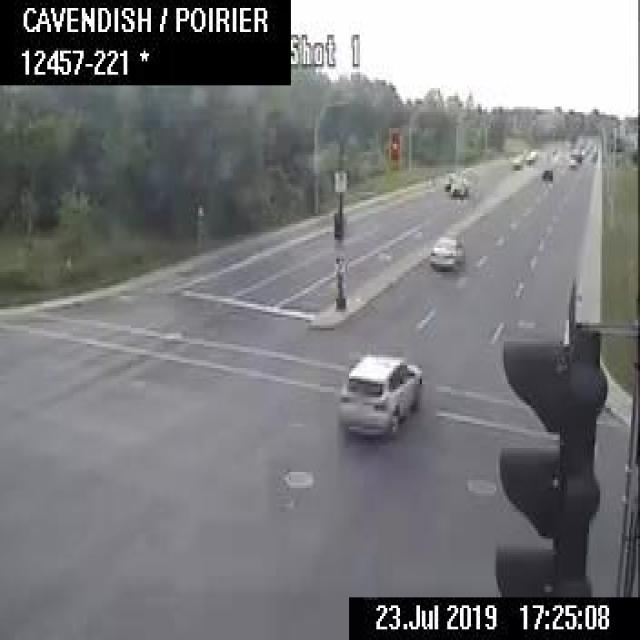vehicle: (338, 352, 422, 435), (427, 232, 464, 268), (449, 176, 466, 197), (442, 169, 456, 189), (510, 154, 522, 168), (540, 168, 552, 181), (522, 152, 534, 164), (566, 157, 576, 168)
